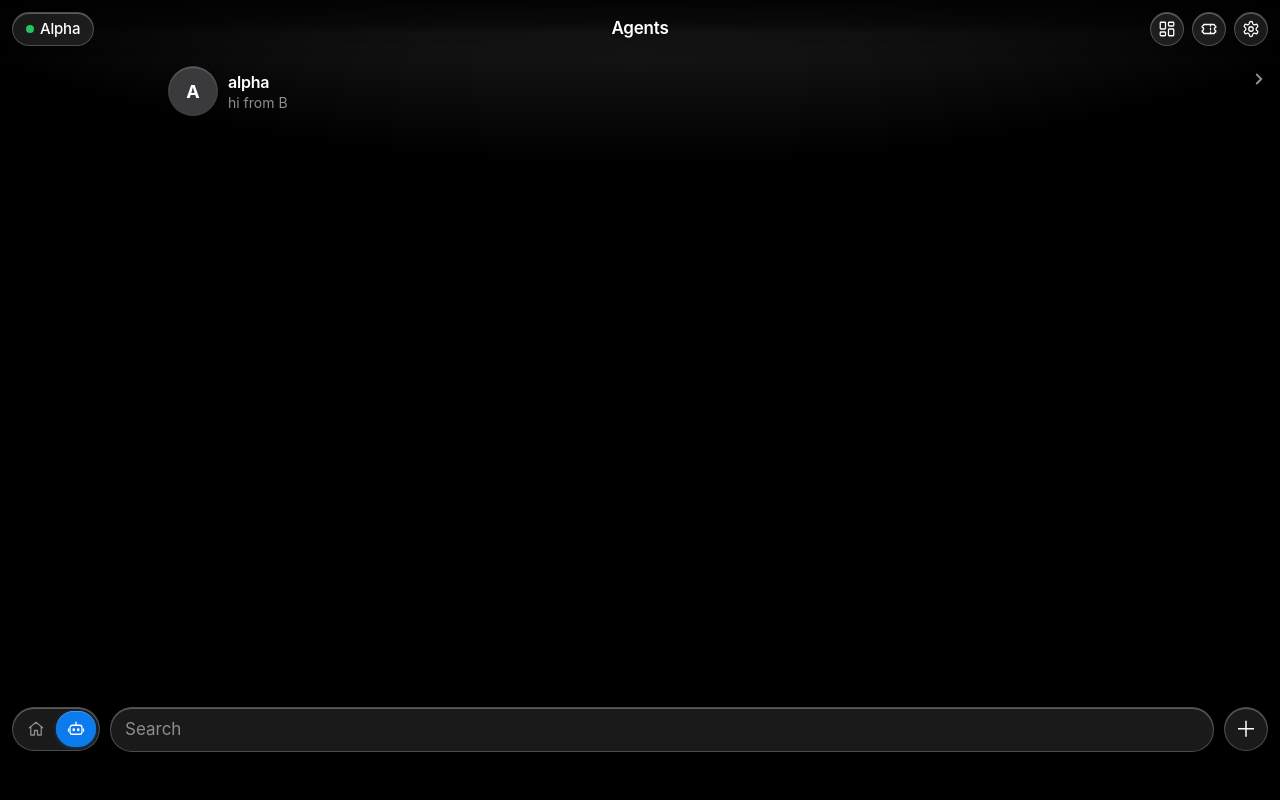
Scenario: Home list across servers (HM3, flag on) › rename repair: a row whose handle left B follows its workspace id
What coordinates should you click on to do the following:
click the button with test id "list-tab-home"
I would click on:
 (36, 729)
Its box is [16,711,56,747].
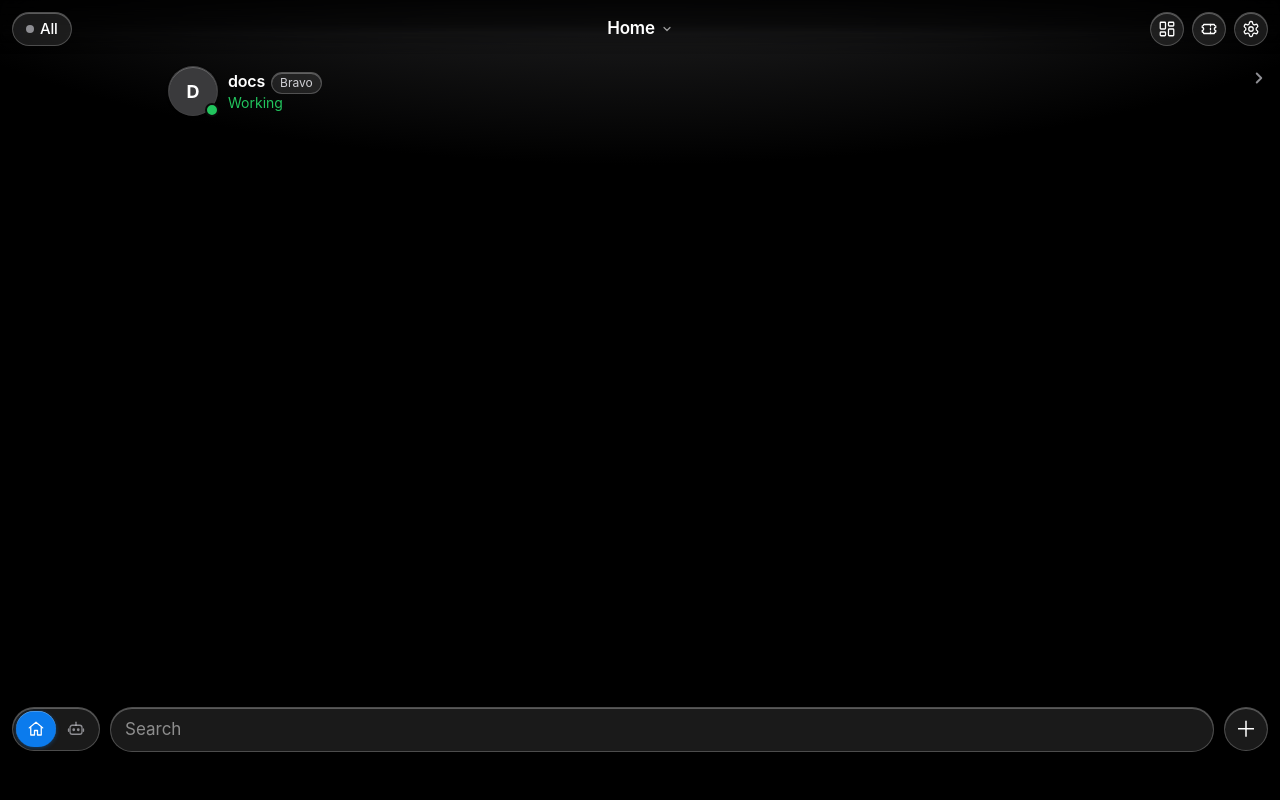
Expected: the button with test id "home-row-docs" is shown, [0,54,1279,128]
